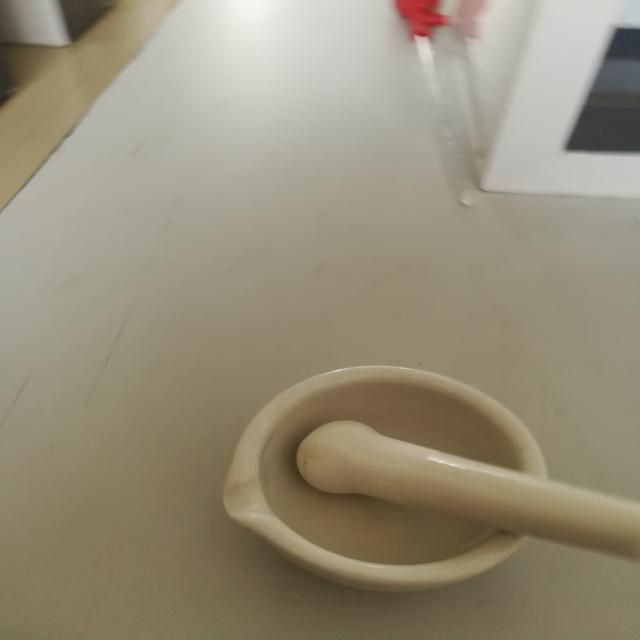Porcelain_Mortar Pestle: (174, 326, 640, 640)
